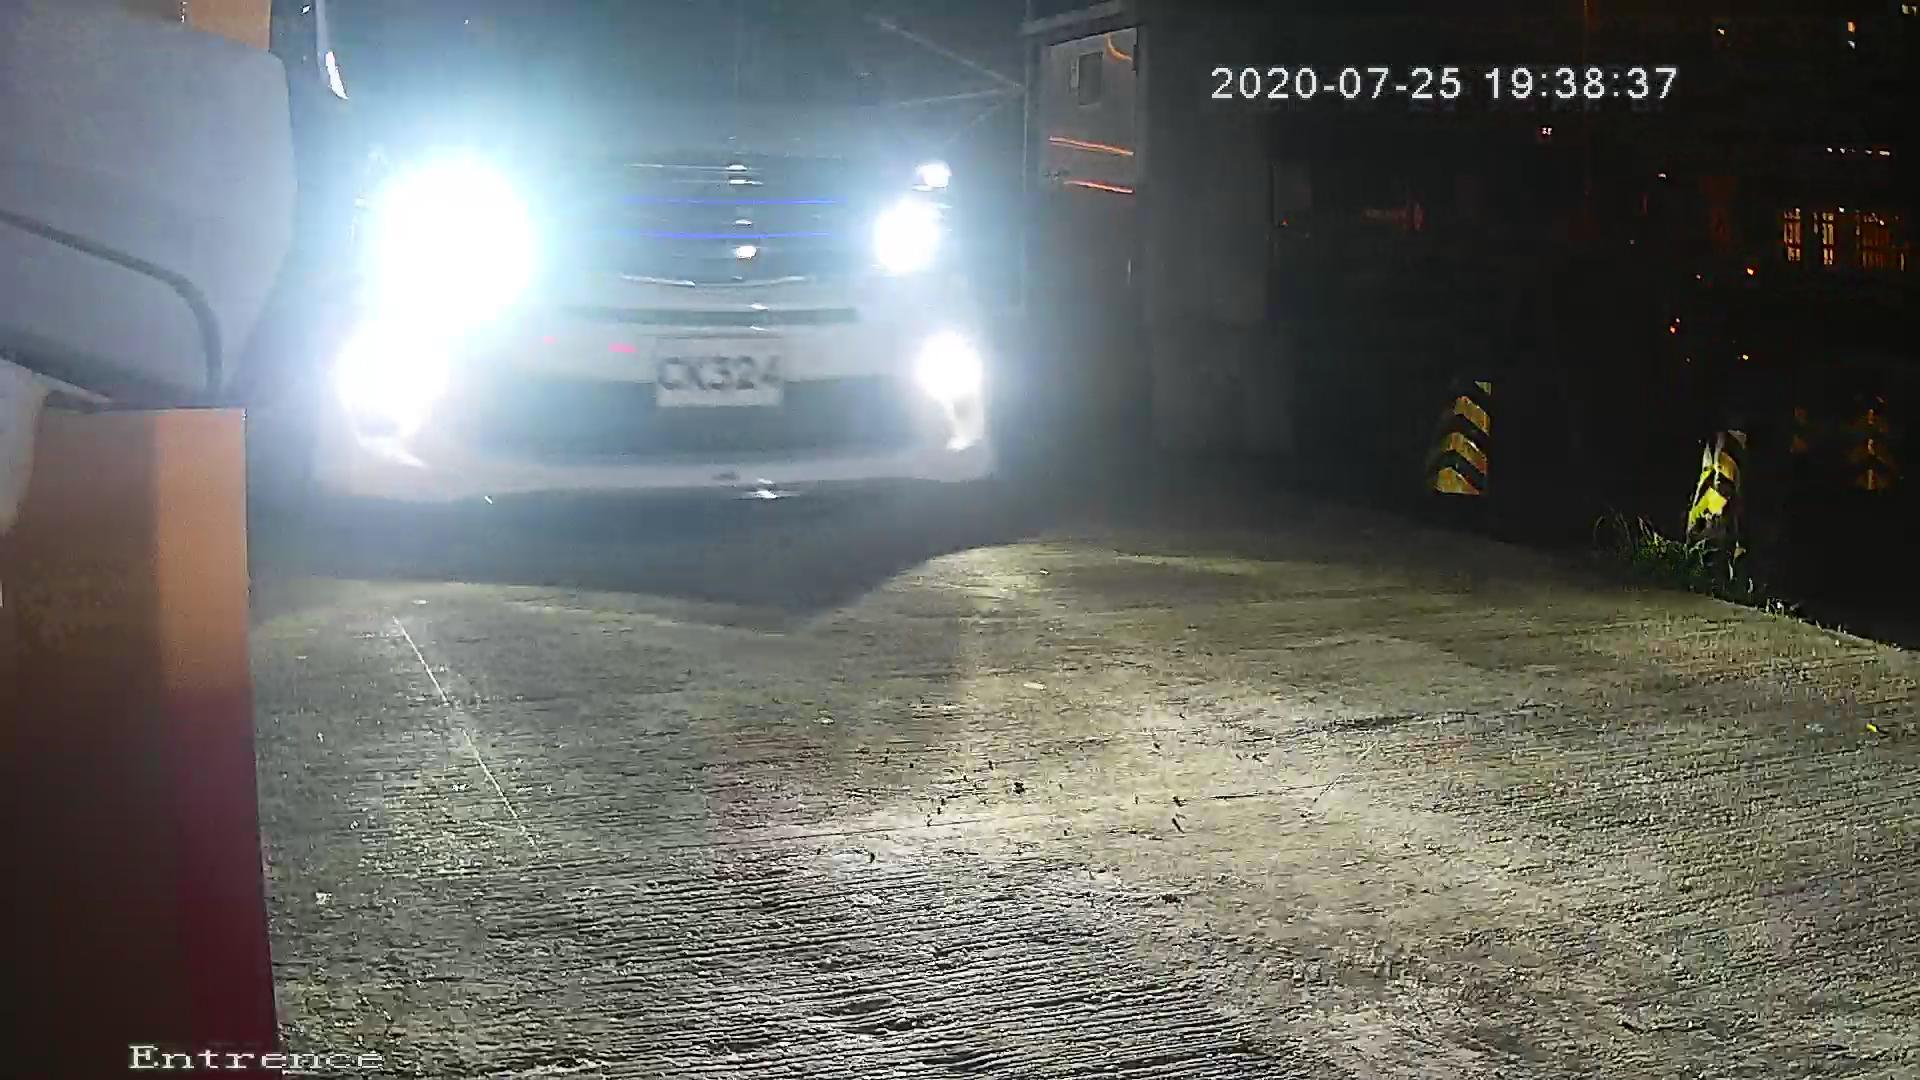License Plate: (639, 320, 815, 434)
